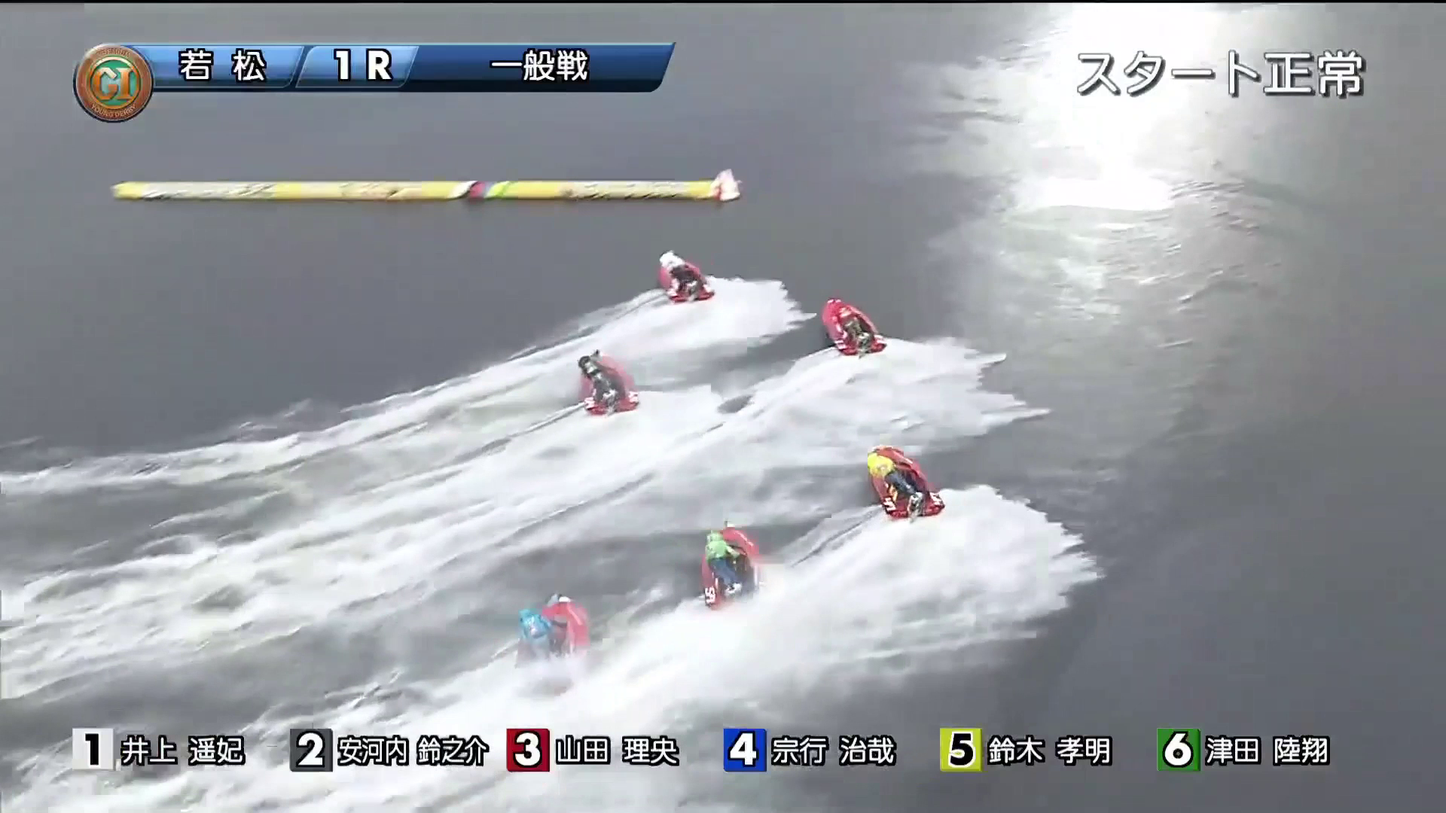１号艇: (649, 243, 719, 296)
２号艇: (561, 361, 690, 421)
３号艇: (810, 301, 908, 348)
４号艇: (665, 538, 799, 603)
５号艇: (471, 612, 594, 667)
６号艇: (874, 458, 974, 515)
